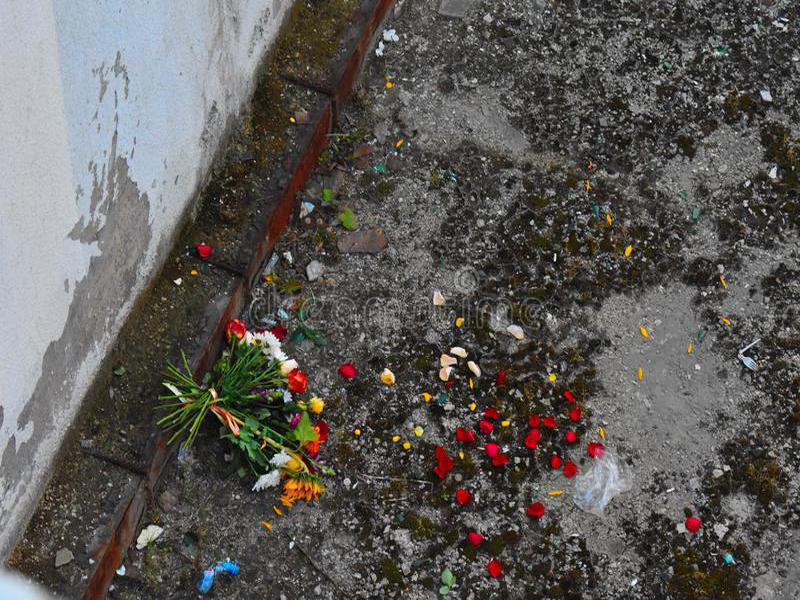flowers: (341, 291, 620, 582), (170, 303, 341, 517)
plastic: (570, 454, 638, 521)
